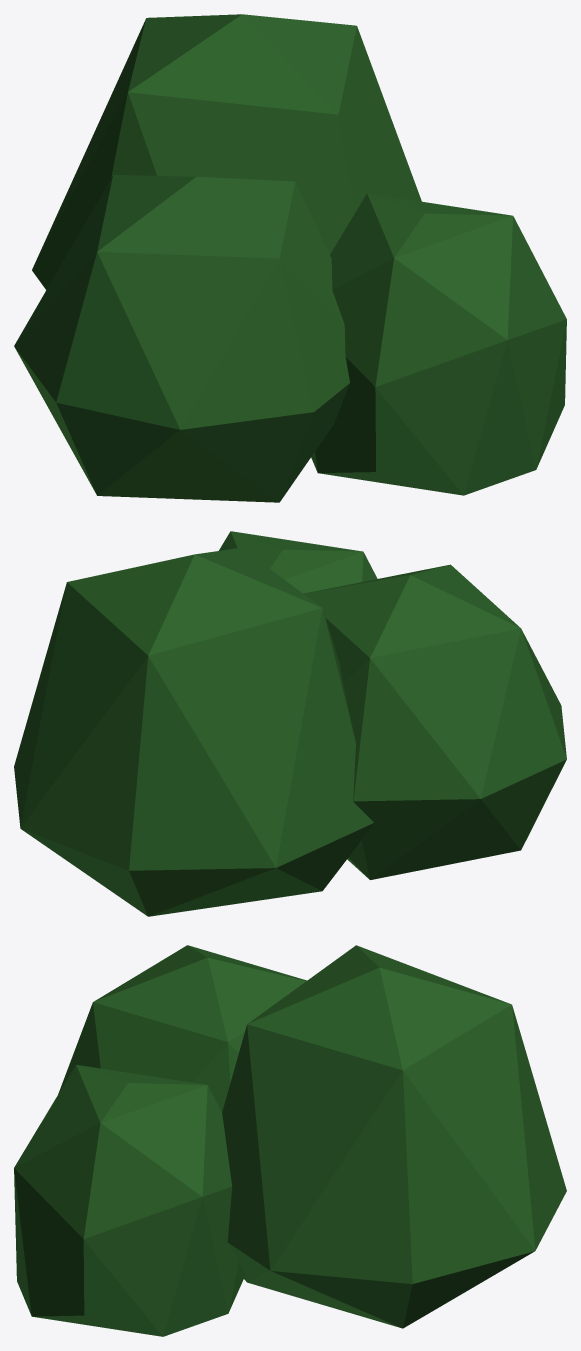
Rendered from Little Bush.FBX.
The picture shows the model from 3 angles, top to bottom: view 1: azimuth 30°, elevation 25°; view 2: azimuth 150°, elevation 25°; view 3: azimuth 270°, elevation 25°; orthographic projection. The views are drawn at different scales.
Visible parts, largest first — view 1: Bush; view 2: Bush; view 3: Bush.
Boxes of the visible parts, <box> form: Bush: <box>14,14,566,502</box>; Bush: <box>14,531,566,916</box>; Bush: <box>14,945,566,1336</box>.
Size of the model in its own units: 27.64 by 19.28 by 30.76.
